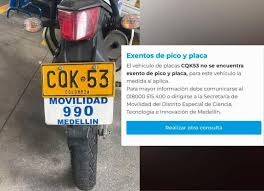number plate: (121, 45, 263, 145), (42, 63, 114, 124)
